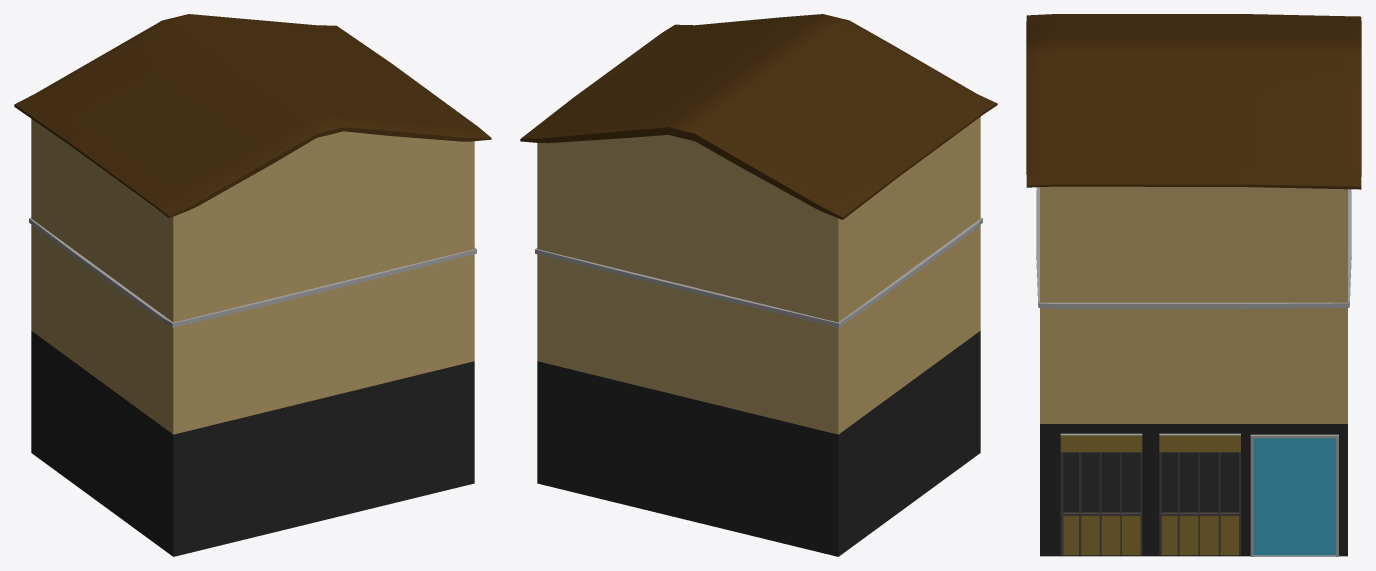
Rendered from building7.fbx.
3 renders of one model, left to right at view 1: azimuth 30°, elevation 25°; view 2: azimuth 150°, elevation 25°; view 3: azimuth 270°, elevation 25°, orthographic. The views are drawn at different scales.
Visible parts, largest first — view 1: pCube6; view 2: pCube6; view 3: pCube6, pCube9, pCube8, pCube7.
Boxes of the visible parts, left/top/right/bottom form: pCube6: left=14, top=14, right=491, bottom=556; pCube6: left=520, top=14, right=997, bottom=556; pCube6: left=1026, top=14, right=1361, bottom=556; pCube9: left=1250, top=434, right=1338, bottom=556; pCube8: left=1060, top=433, right=1142, bottom=555; pCube7: left=1159, top=433, right=1240, bottom=555.
Size of the model in its own units: 918 by 1079 by 762.
